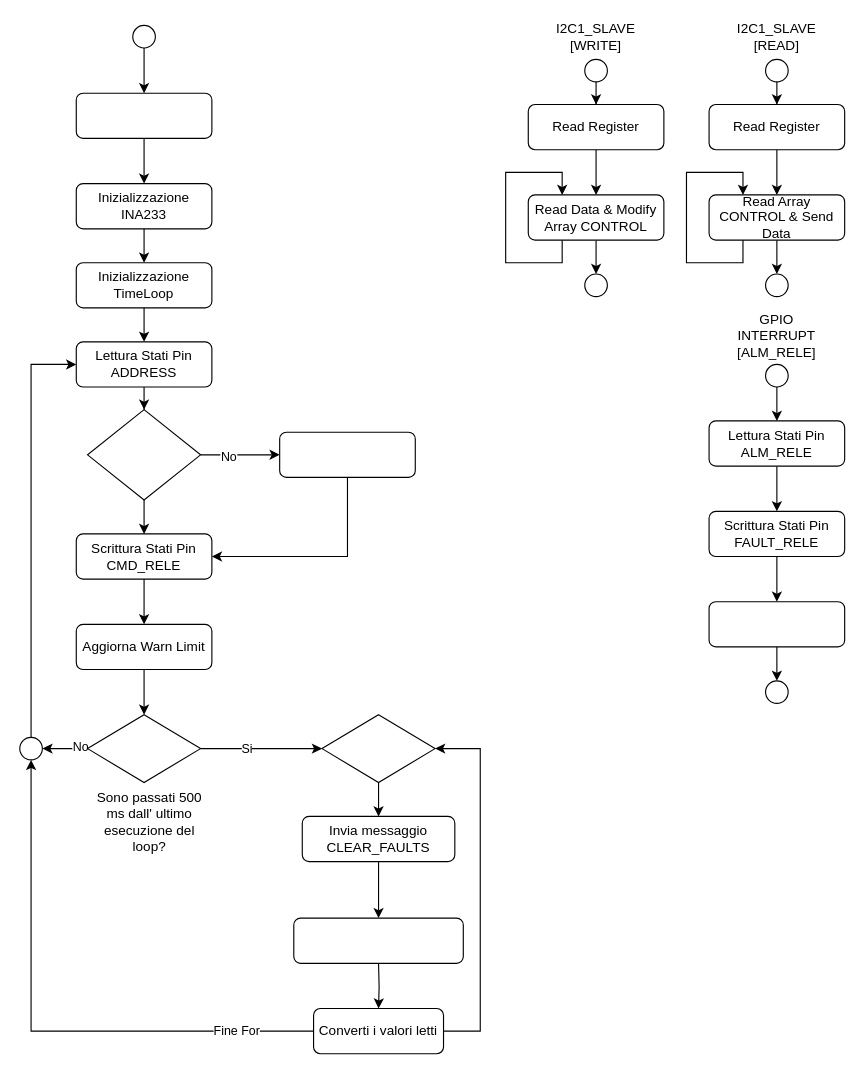
Image size: 864x1074. Some labels were removed from this diagram. Each missing label, with the centre of its shape:
"Aggiorna I2C1_ADDRESS" belongs at point (347, 454).
"I2C1_ADDRESS == 0x40 + ADDRESS_PinState" belongs at point (143, 454).
"Inizializzazione GPIO, I2C" belongs at point (143, 115).
"Leggi i valori di VIN e IIN" belongs at point (378, 940).
"Per ogni INA" belongs at point (378, 748).
"Scrittura Stato Pin EXT_INT" belongs at point (776, 624).
"TimeLoop 500 ms" belongs at point (143, 748).
